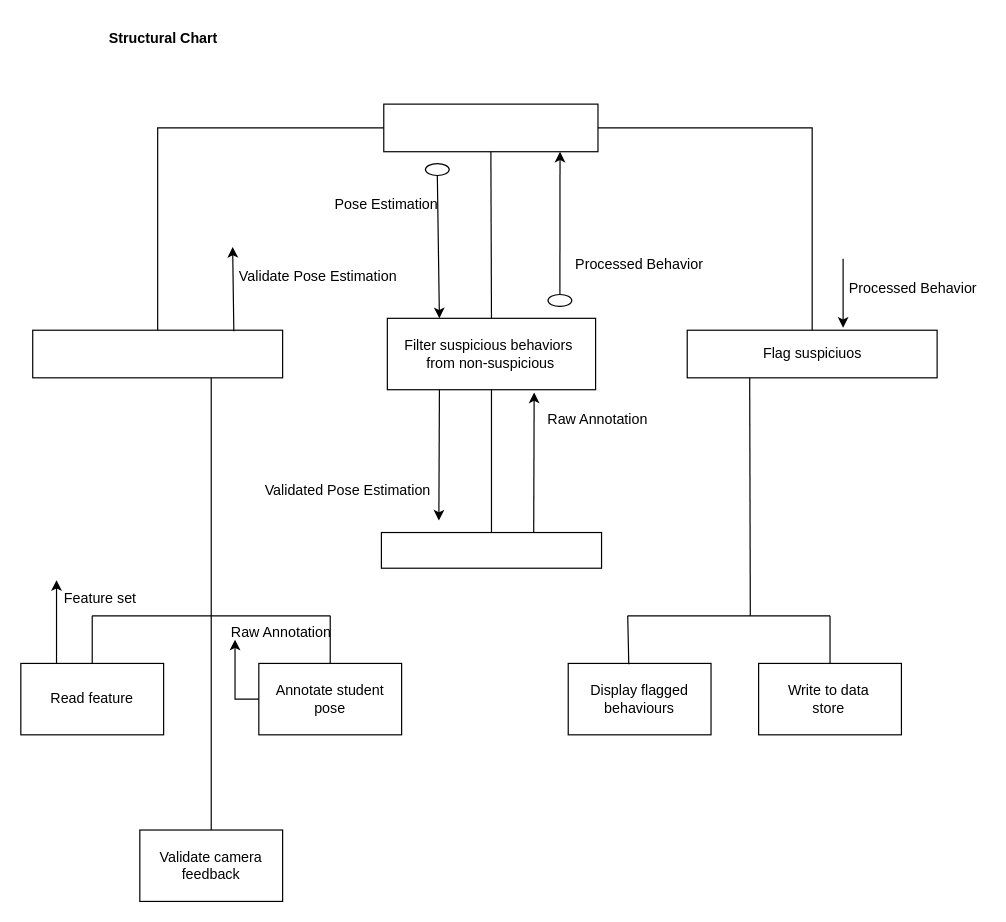
Image size: 1006x922. Some labels were removed from this diagram. Each missing label, with the box of its shape:
Get _Validated_Pose Estimation: (32, 329, 283, 378)
Predict with train model: (380, 531, 602, 568)
Process Captured Data: (383, 103, 598, 152)
